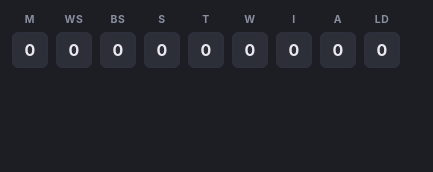
StatRow › clicking a stat value shows a number input
Click the button named "edit M": (30, 50) [12,32,48,68]
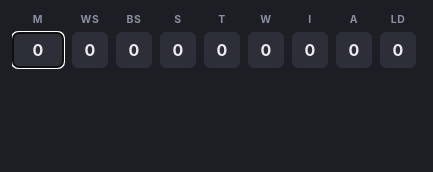
Check: the number field named "M value" is shown, box [12,32,64,68]
